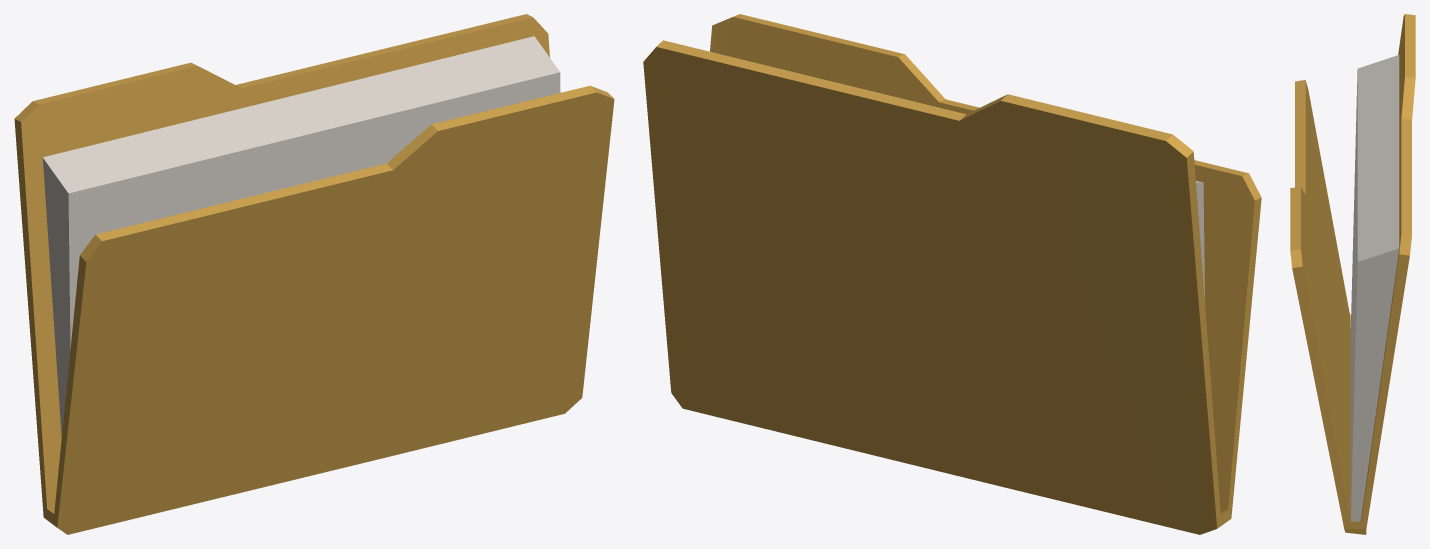
File: SM_Icon_Folder_01.fbx
The picture shows the model from 3 angles, left to right: view 1: azimuth 30°, elevation 25°; view 2: azimuth 150°, elevation 25°; view 3: azimuth 270°, elevation 25°; orthographic projection. The views are drawn at different scales.
Parts seen in each view (by area): view 1: SM_Icon_Folder_01; view 2: SM_Icon_Folder_01; view 3: SM_Icon_Folder_01.
Boxes of the visible parts, x1,y1,x2,y2 form: SM_Icon_Folder_01: (14,14,614,534); SM_Icon_Folder_01: (643,14,1261,534); SM_Icon_Folder_01: (1290,14,1415,534).
Bounding box in the file's own units: 58.54 × 42.83 × 14.95.
